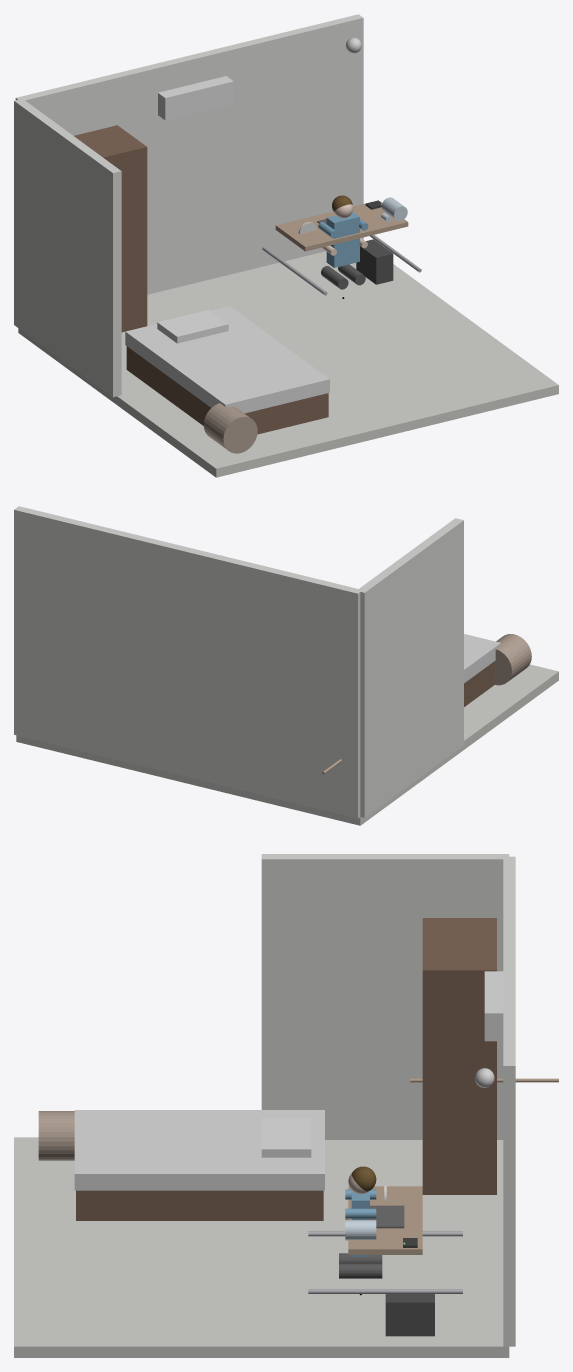
Rendered from room.glb.
3 views of the same model, one above another, from view 1: azimuth 30°, elevation 25°; view 2: azimuth 150°, elevation 25°; view 3: azimuth 270°, elevation 25° (orthographic). The views are drawn at different scales.
Visible parts, largest first — view 1: wall_back, floor, wall_left, bed_linen, wooden_wardrobe, bed_base, study_desk, ac_unit, laundry_basket, pillow, human_torso, ups_unit; view 2: wall_back, wall_left, floor, laundry_basket, bed_linen, bed_base; view 3: floor, wall_left, wooden_wardrobe, bed_linen, bed_base, wall_back, study_desk, ups_unit, pillow, laundry_basket, ac_unit, laptop (+2 smaller).
Part boxes in pixels (box(x1,y1,x2,y2)): wall_back: box(15, 14, 363, 294); floor: box(18, 251, 558, 477); wall_left: box(14, 98, 121, 397); bed_linen: box(125, 306, 329, 413); wooden_wardrobe: box(74, 125, 147, 332); bed_base: box(126, 346, 328, 434); study_desk: box(275, 200, 408, 251); ac_unit: box(158, 76, 233, 120); laundry_basket: box(203, 403, 257, 453); pillow: box(157, 310, 228, 343); human_torso: box(326, 212, 359, 267); ups_unit: box(356, 239, 393, 284); wall_back: box(14, 506, 362, 818); wall_left: box(356, 518, 463, 817); floor: box(16, 664, 558, 825); laundry_basket: box(494, 634, 531, 685); bed_linen: box(464, 634, 500, 683); bed_base: box(464, 661, 494, 706); floor: box(14, 1137, 509, 1357); wall_left: box(261, 854, 509, 1139); wooden_wardrobe: box(422, 918, 496, 1194); bed_linen: box(74, 1110, 324, 1190); bed_base: box(76, 1190, 323, 1220); wall_back: box(503, 856, 515, 1346); study_desk: box(348, 1186, 422, 1254); ups_unit: box(385, 1294, 434, 1336); pillow: box(261, 1118, 311, 1157); laundry_basket: box(38, 1111, 74, 1160); ac_unit: box(484, 971, 503, 1041); laptop: box(367, 1205, 404, 1228).
Size of the model in its own units: 4.05 by 2.6 by 4.4.
